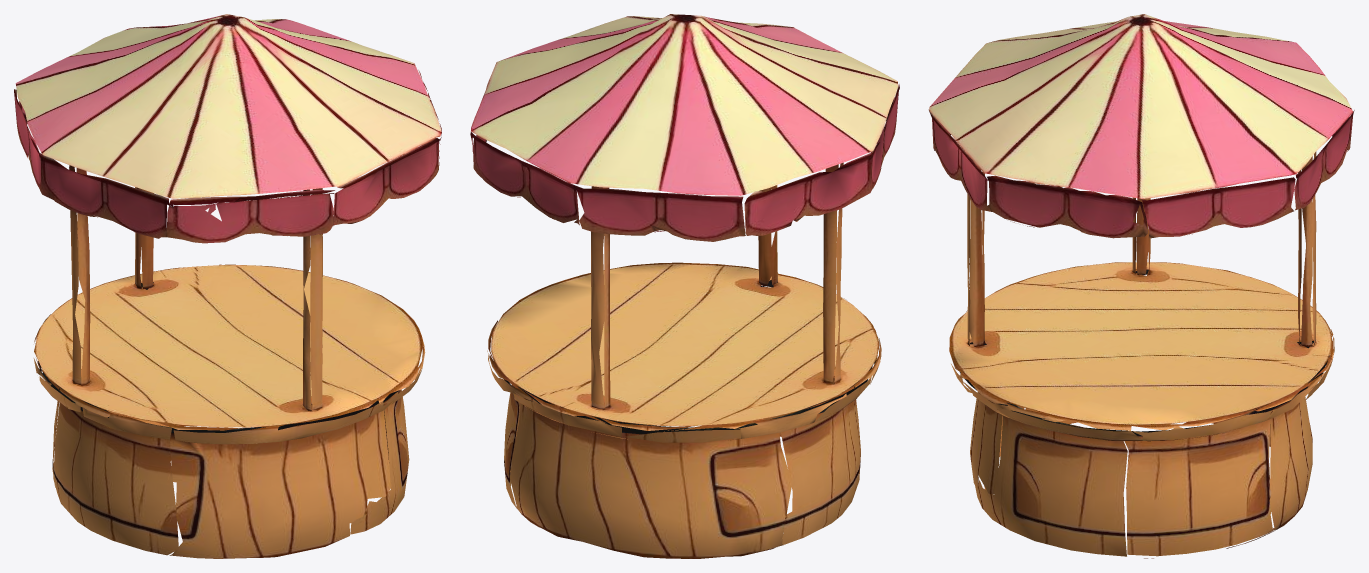
File: panayir_tezgah.glb
3 renders of one model, left to right at view 1: azimuth 30°, elevation 25°; view 2: azimuth 150°, elevation 25°; view 3: azimuth 270°, elevation 25°, orthographic.
Parts seen in each view (by area): view 1: geometry_0; view 2: geometry_0; view 3: geometry_0.
Part boxes in pixels (<box>): geometry_0: <box>14,14,441,558</box>; geometry_0: <box>470,14,899,558</box>; geometry_0: <box>928,14,1354,558</box>.
Bounding box in the file's own units: 0.8228 × 0.9923 × 0.8227.
1 material, 1 textured.
